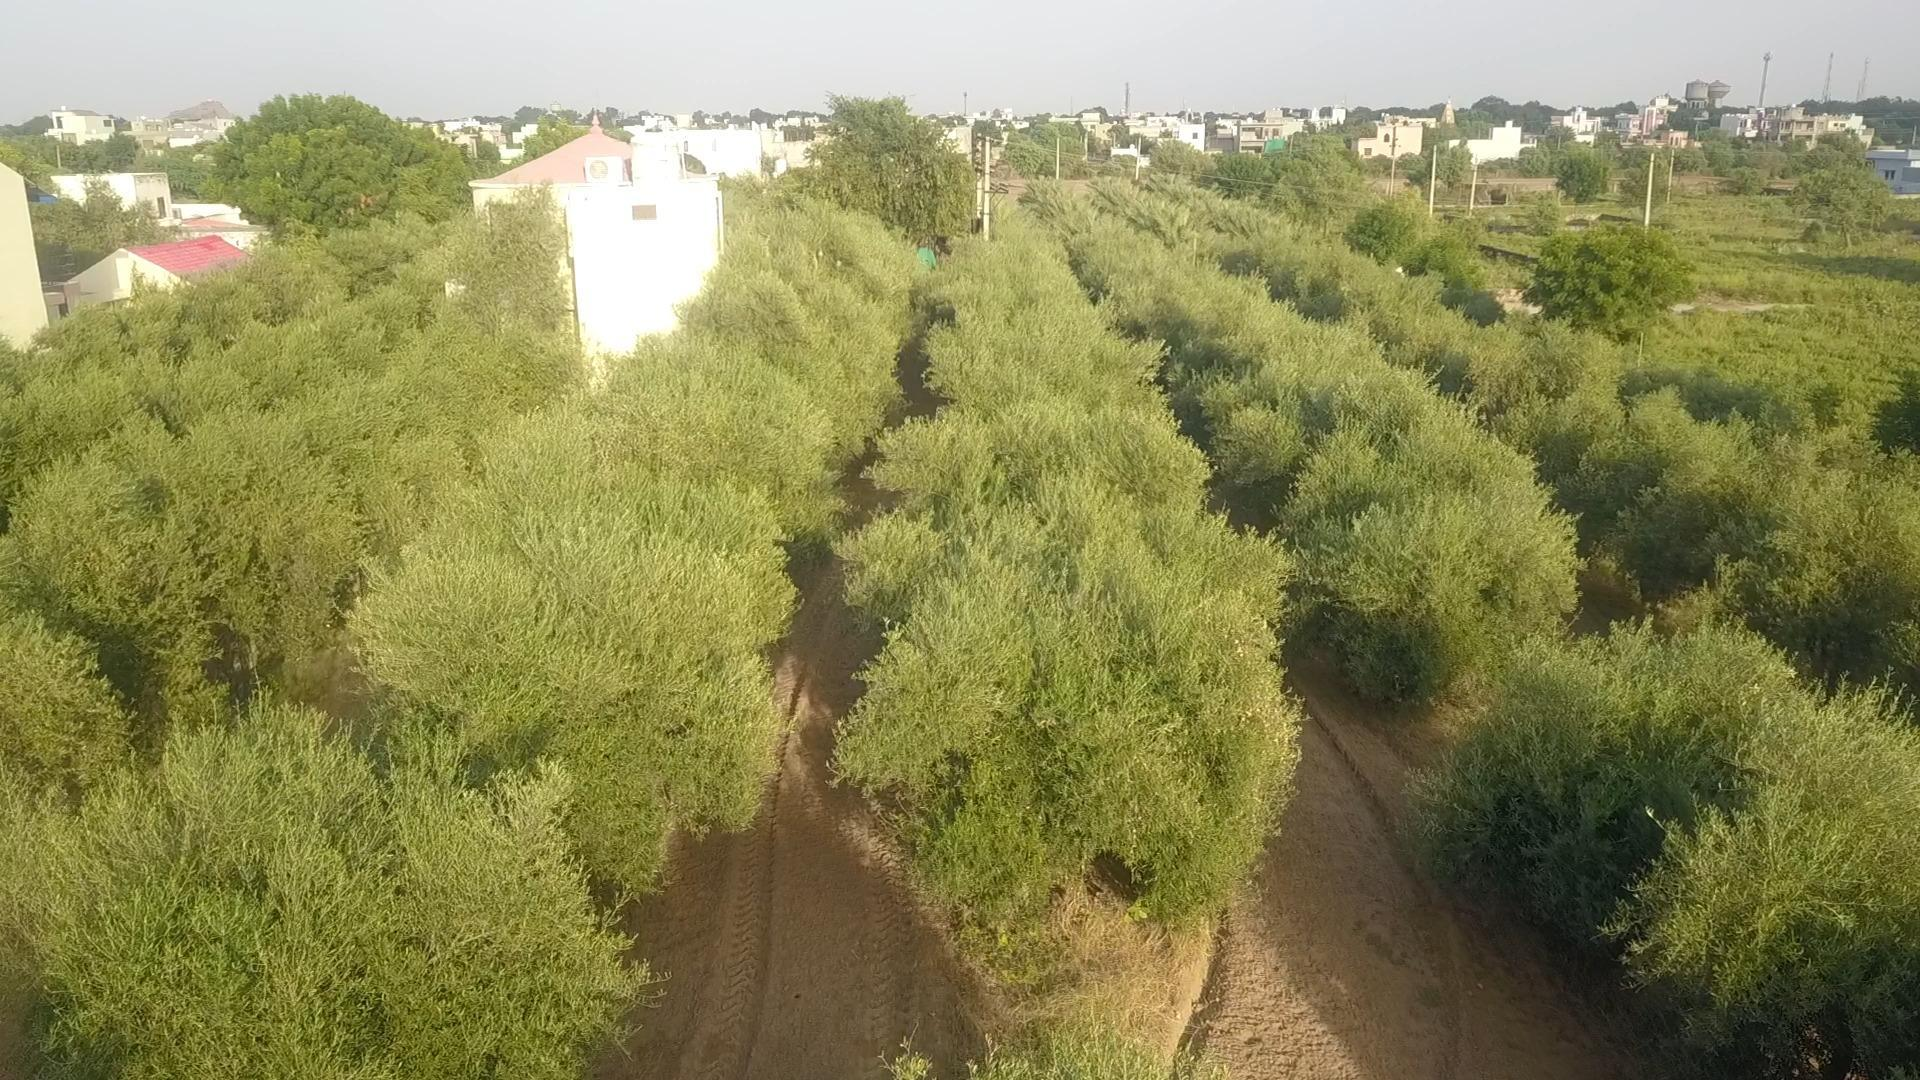canopy: (0, 204, 911, 1079), (1097, 186, 1919, 692), (837, 211, 1298, 924), (0, 302, 576, 789), (1050, 198, 1575, 702), (1420, 622, 1919, 1076), (458, 324, 477, 338), (840, 290, 851, 301)
road: (597, 560, 1001, 1079), (1137, 680, 1631, 1079)
